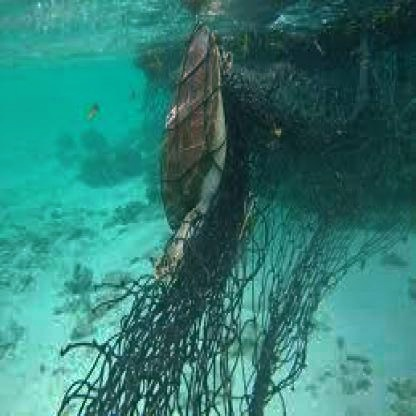net: (69, 53, 321, 416)
